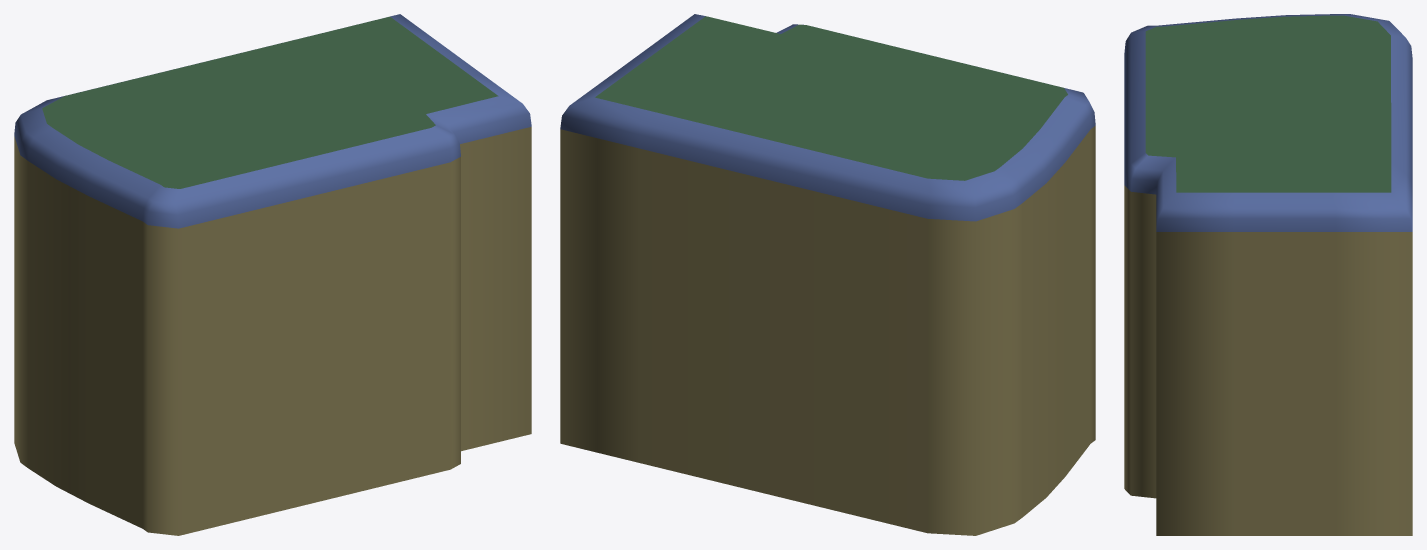
The model's file is Segunda_plat.fbx.
3 renders of one model, left to right at view 1: azimuth 30°, elevation 25°; view 2: azimuth 150°, elevation 25°; view 3: azimuth 270°, elevation 25°, orthographic. The views are drawn at different scales.
Visible parts, largest first — view 1: Segunda_plat, Ground6, Wall6; view 2: Segunda_plat, Ground6, Wall6; view 3: Segunda_plat, Ground6, Wall6.
Boxes of the visible parts, left/top/right/bottom form: Segunda_plat: left=14, top=127, right=531, bottom=535; Ground6: left=42, top=16, right=498, bottom=188; Wall6: left=14, top=14, right=531, bottom=228; Segunda_plat: left=560, top=126, right=1095, bottom=535; Ground6: left=595, top=16, right=1067, bottom=180; Wall6: left=560, top=14, right=1095, bottom=221; Segunda_plat: left=1124, top=185, right=1412, bottom=535; Ground6: left=1145, top=15, right=1391, bottom=192; Wall6: left=1124, top=14, right=1412, bottom=231.
Bounding box in the file's own units: 6919 × 5380 × 4231.
